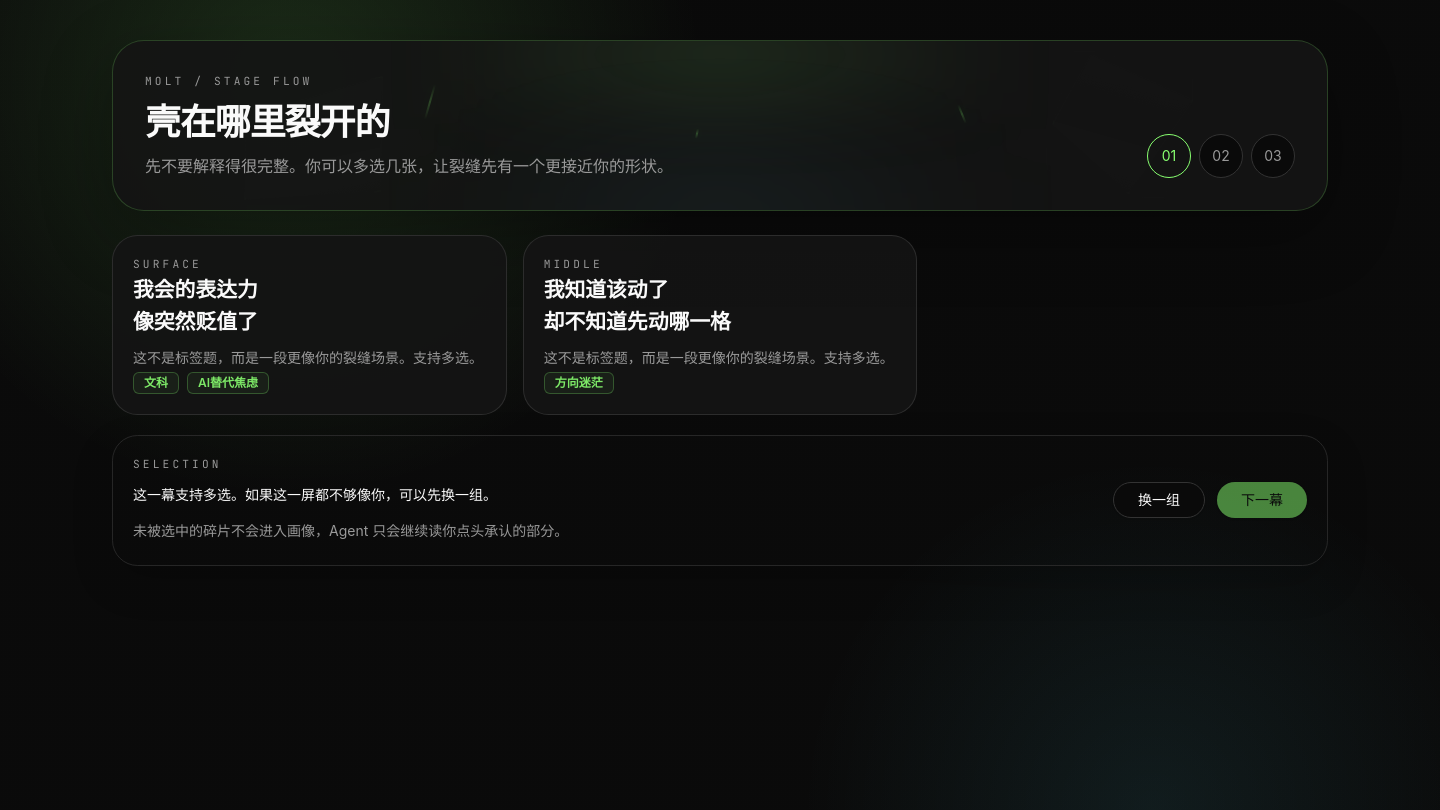
Test: Conversation Page v3.3 › supports regenerating a new group of cards in the same act
The image size is (1440, 810).
Check: the text "我会的表达力" is shown, box [133,277,258,302]
Step 1. Click the button "换一组" → (1159, 500), box [1113,482,1205,518]
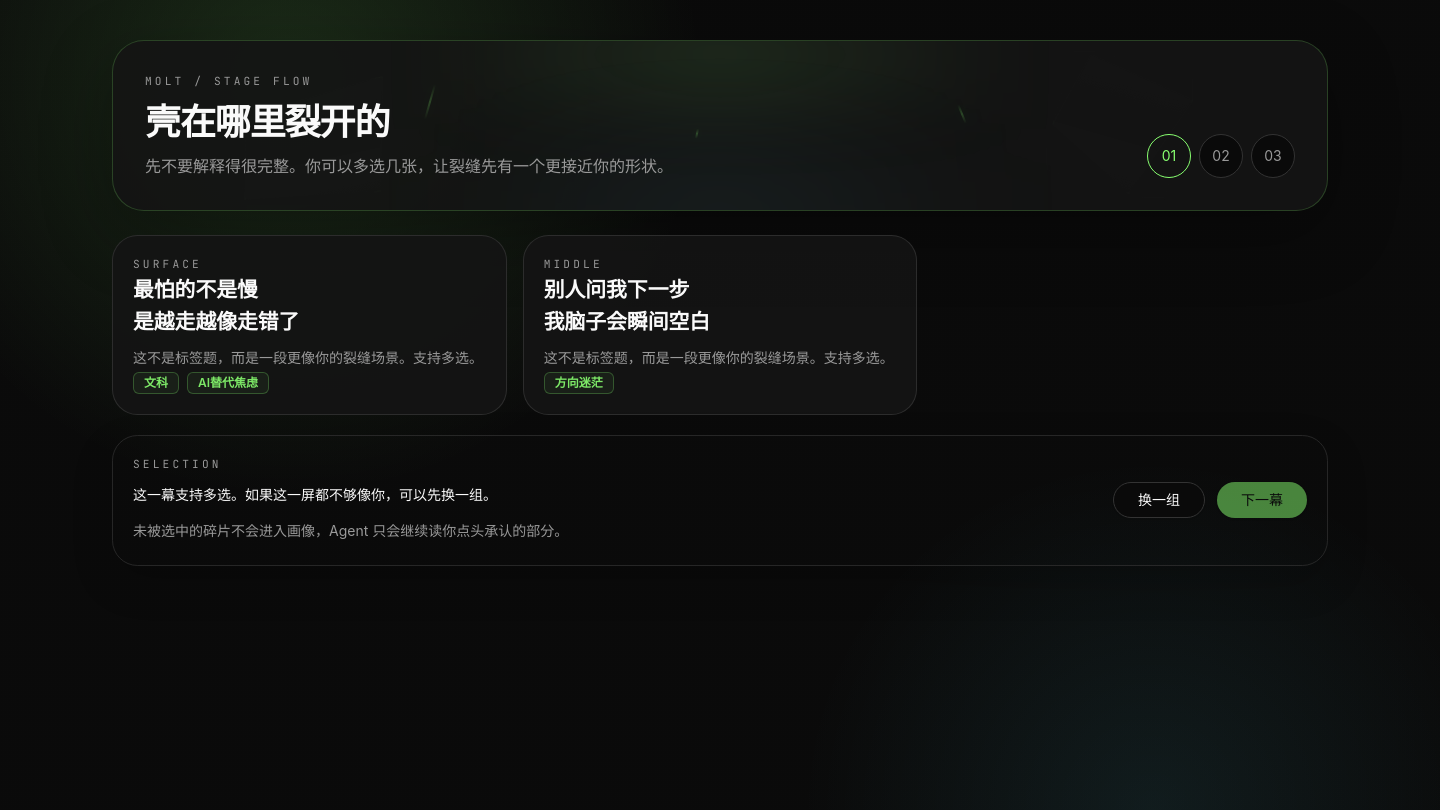
Check: the text "最怕的不是慢" is shown, box [133,277,258,302]
